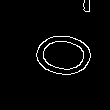O_SE: (12, 25, 98, 85)
